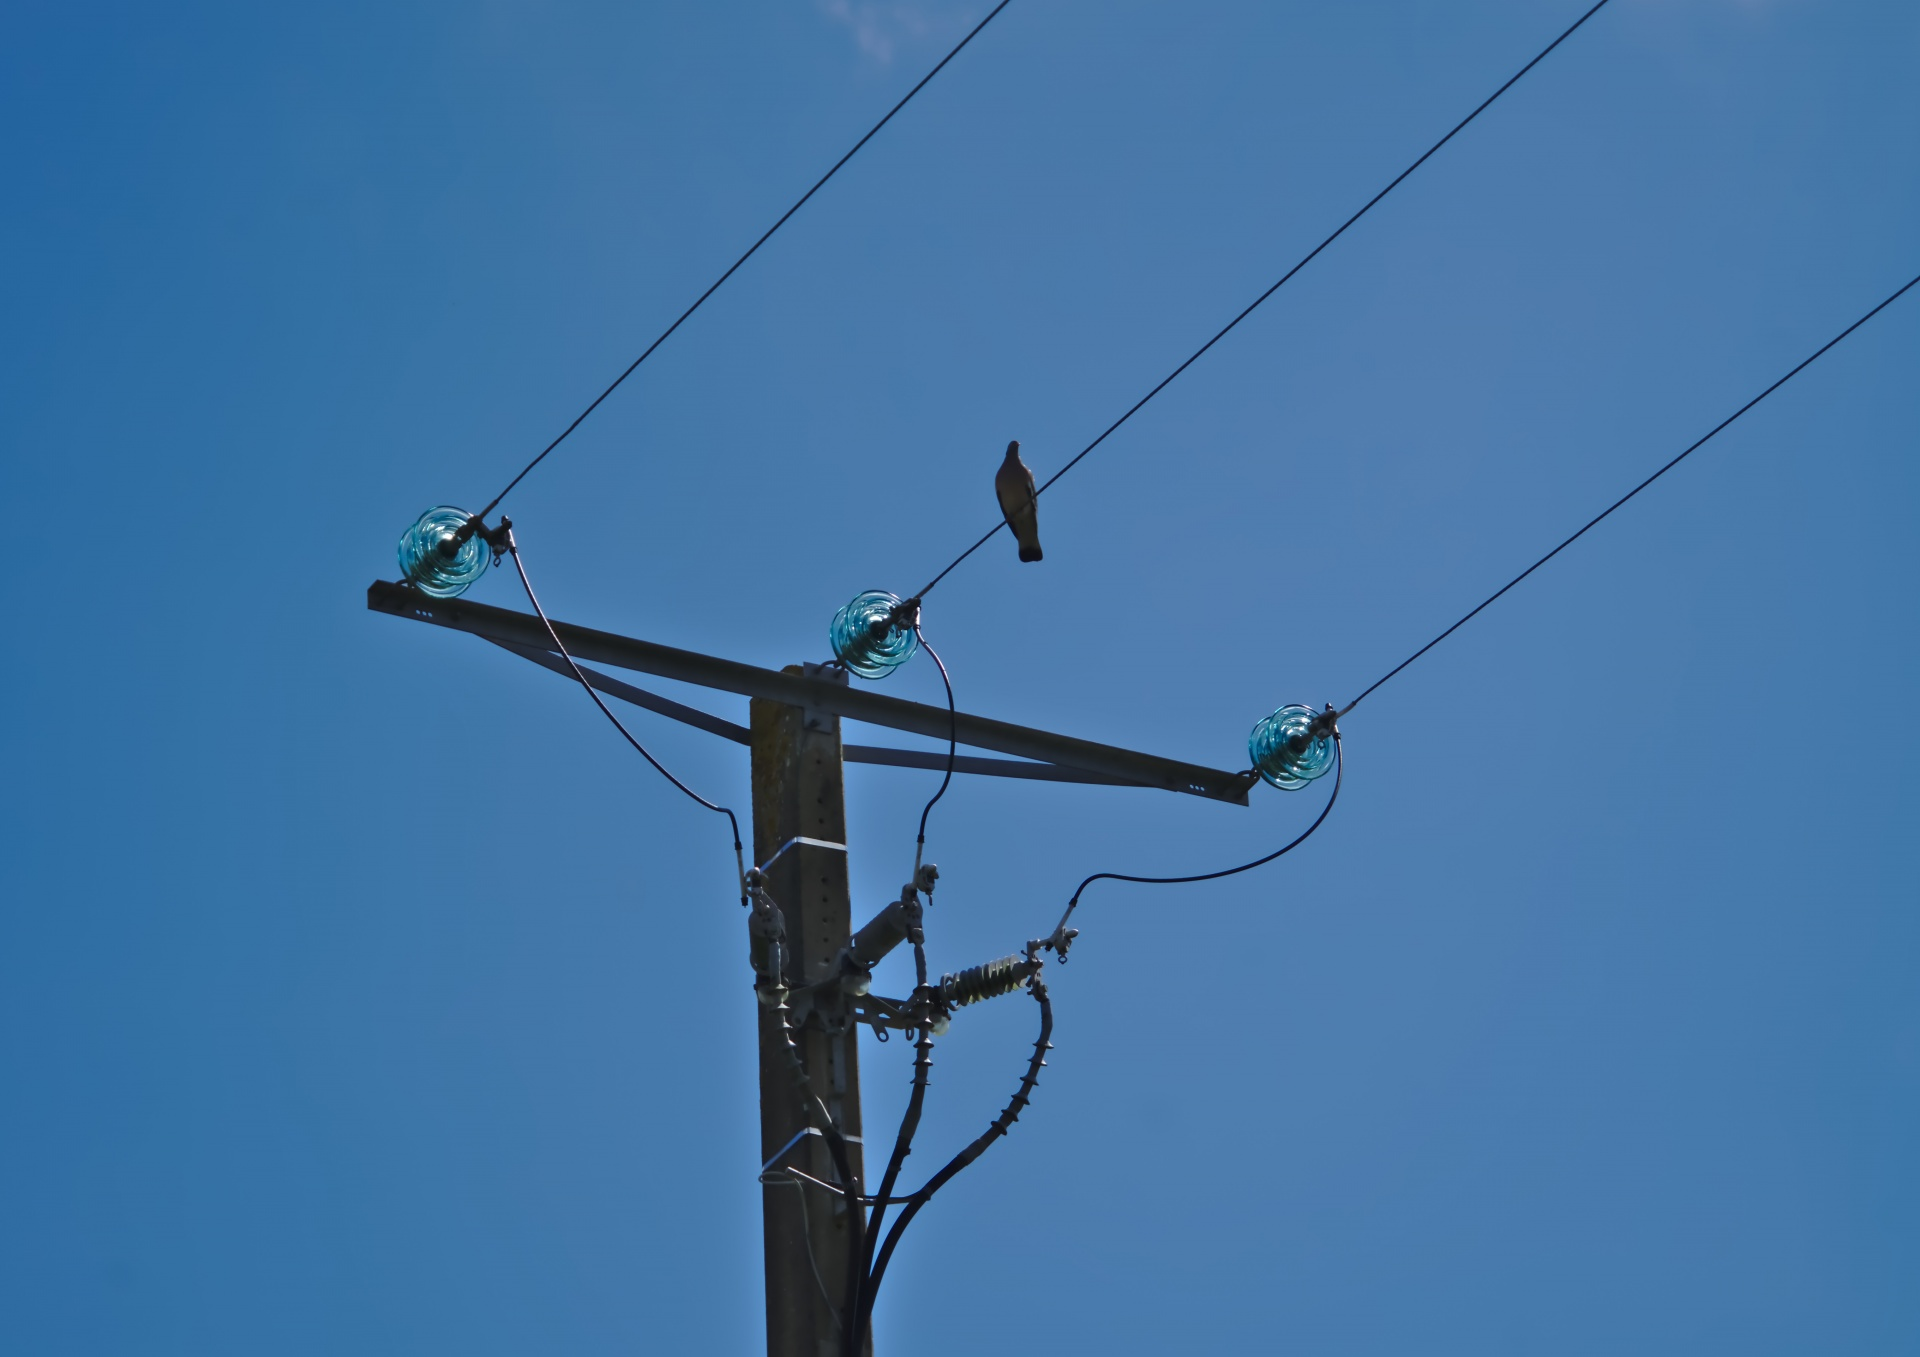utility_pole: (324, 442, 1372, 1244)
